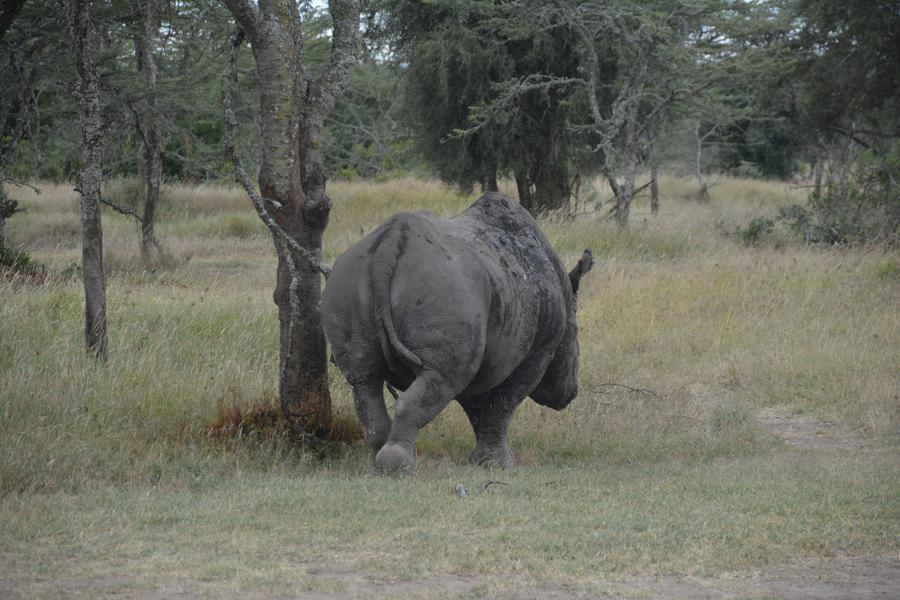rhino: (341, 194, 585, 441)
